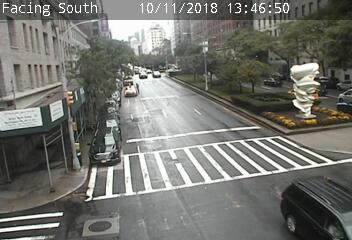car: (89, 128, 121, 164), (287, 87, 319, 102), (263, 77, 282, 87), (124, 86, 138, 97)
